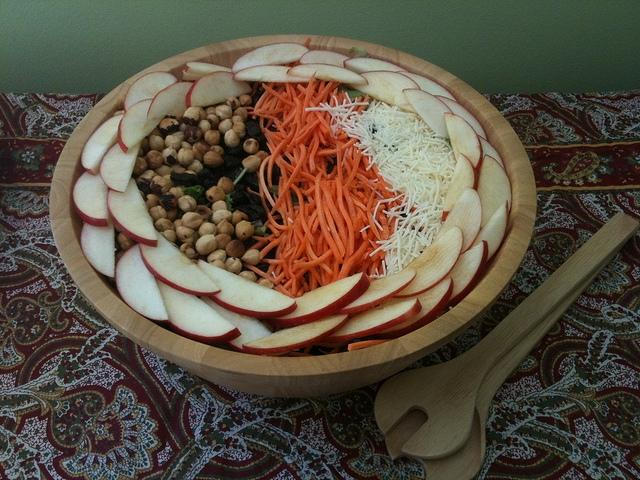apple: (262, 272, 371, 330), (198, 258, 298, 319), (155, 277, 243, 345), (138, 228, 222, 296), (366, 278, 454, 340), (391, 225, 464, 298), (242, 313, 350, 355), (115, 242, 171, 322), (322, 298, 422, 342), (200, 296, 274, 353), (331, 266, 417, 315), (106, 177, 158, 248), (432, 187, 482, 255), (444, 240, 488, 306), (80, 113, 126, 176), (477, 154, 512, 228), (186, 70, 254, 108), (402, 88, 452, 139), (433, 95, 488, 141), (350, 70, 420, 106), (118, 98, 162, 154), (442, 154, 478, 222), (470, 200, 508, 264), (232, 43, 310, 74), (444, 112, 483, 174), (80, 215, 117, 278), (100, 140, 142, 193), (124, 72, 179, 112), (73, 170, 110, 226), (286, 63, 368, 85), (148, 82, 194, 121), (399, 72, 458, 102), (477, 134, 508, 178), (232, 66, 316, 82), (344, 57, 408, 74), (298, 50, 350, 68), (184, 61, 232, 76), (182, 70, 206, 80)
carrot: (314, 170, 344, 265), (270, 142, 306, 215), (317, 181, 348, 252), (338, 229, 373, 280), (292, 224, 318, 290), (334, 178, 354, 256), (290, 183, 315, 245), (308, 99, 334, 138), (297, 249, 332, 268), (312, 81, 334, 106), (283, 268, 308, 290), (348, 340, 393, 351), (276, 107, 296, 131), (309, 126, 319, 174), (355, 210, 363, 240), (308, 195, 316, 216), (328, 136, 344, 146), (331, 181, 336, 202), (354, 184, 364, 188)
